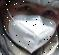with_mask: (1, 1, 59, 55)
